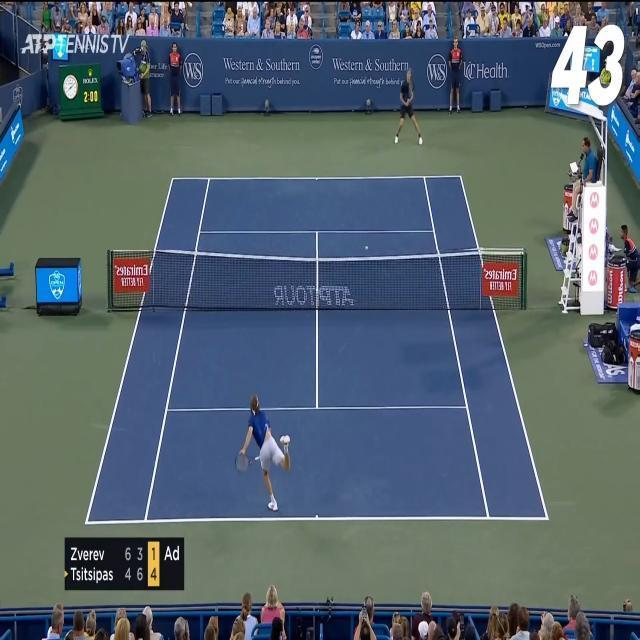court: (84, 174, 550, 526)
net: (106, 250, 528, 310)
player: (234, 392, 292, 512)
